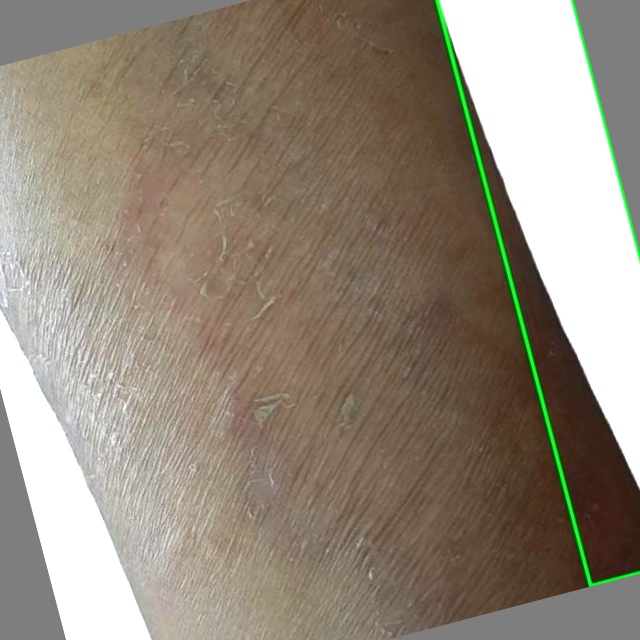Tinea Corporis: (437, 0, 639, 585)
